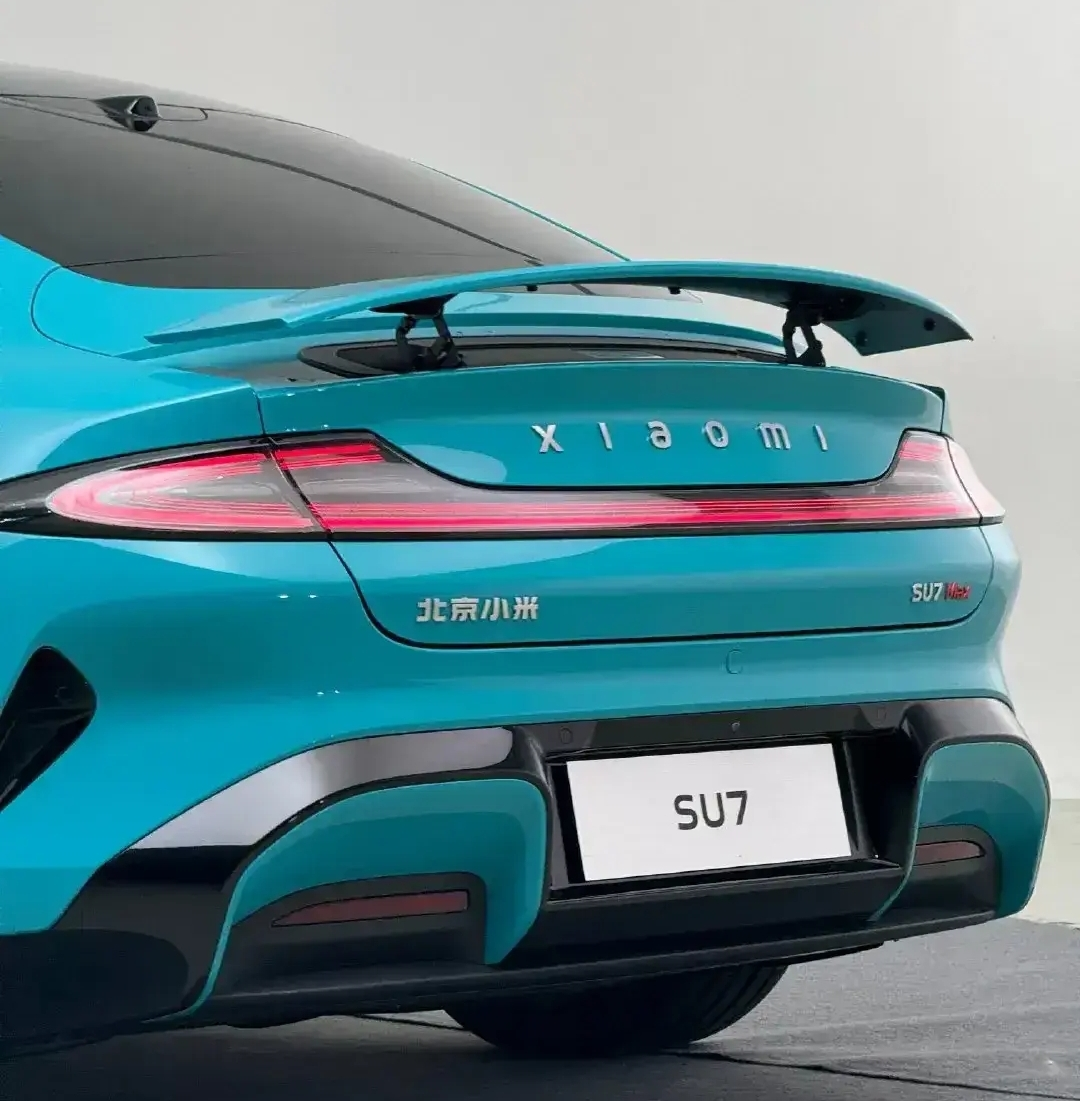su7: (0, 60, 1060, 1051)
